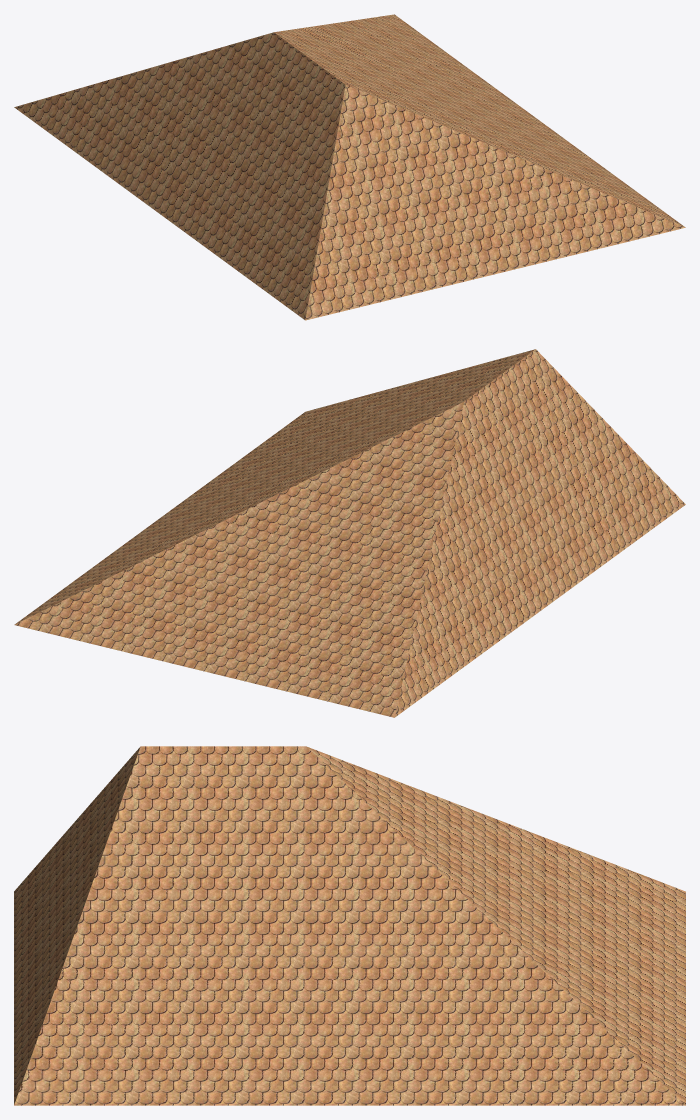
Rendered from telhado43a.dae.
3 renders of one model, top to bottom at view 1: azimuth 30°, elevation 25°; view 2: azimuth 150°, elevation 25°; view 3: azimuth 270°, elevation 25°, orthographic. The views are drawn at different scales.
Visible parts, largest first — view 1: SketchUp; view 2: SketchUp; view 3: SketchUp.
Boxes of the visible parts, box(x1,y1,x2,y2) form: SketchUp: box(14, 14, 685, 320); SketchUp: box(14, 349, 685, 717); SketchUp: box(14, 746, 685, 1105).
Size of the model in its own units: 362 by 480 by 159.
Materials: 5 (2 with a texture image).
